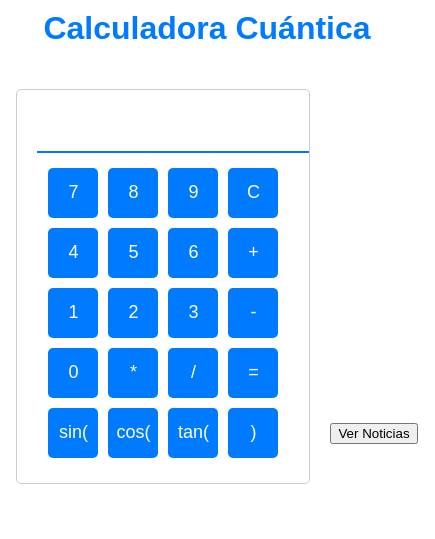
Test: performs basic multiplication
Ingresa los números y realiza la multiplicación
What coordinates should you click on to do the following:
click the button "4"
I would click on:
 (73, 253)
Its box is [48,228,98,278].
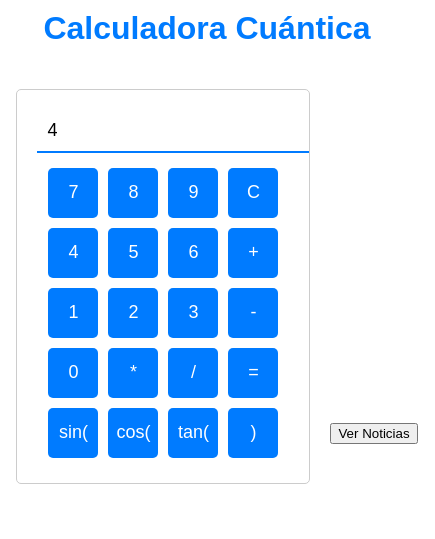
What coordinates should you click on to do the following:
click the button "*"
I would click on:
 (133, 373)
Its box is [108,348,158,398].
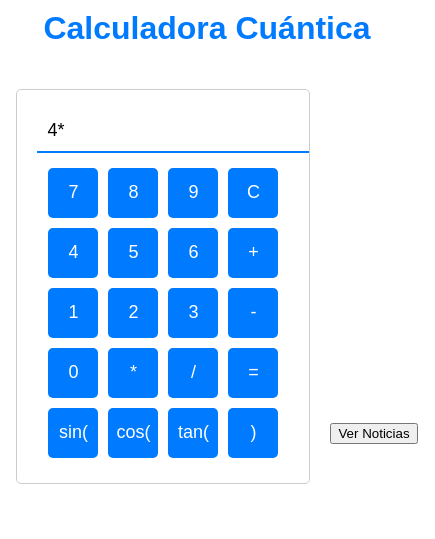
What coordinates should you click on to do the following:
click the button "3"
I would click on:
 (193, 313)
Its box is [168,288,218,338].
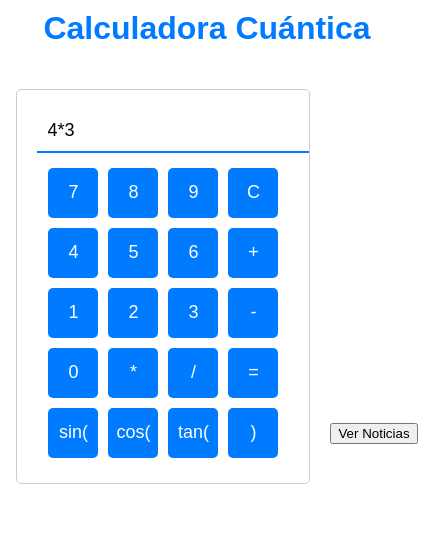
What coordinates should you click on to do the following:
click the button "="
I would click on:
 (253, 373)
Its box is [228,348,278,398].
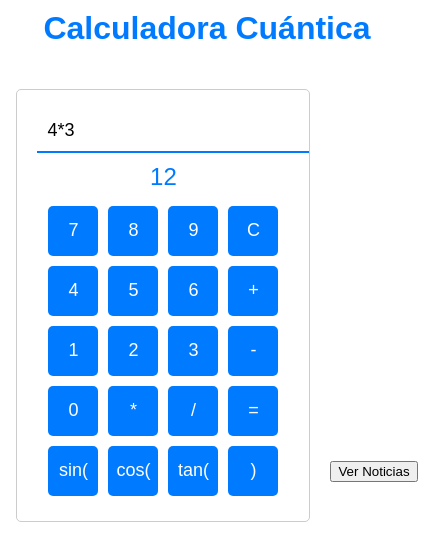
expect the text with test id "result" reads "12": met, box [150,163,177,190]
